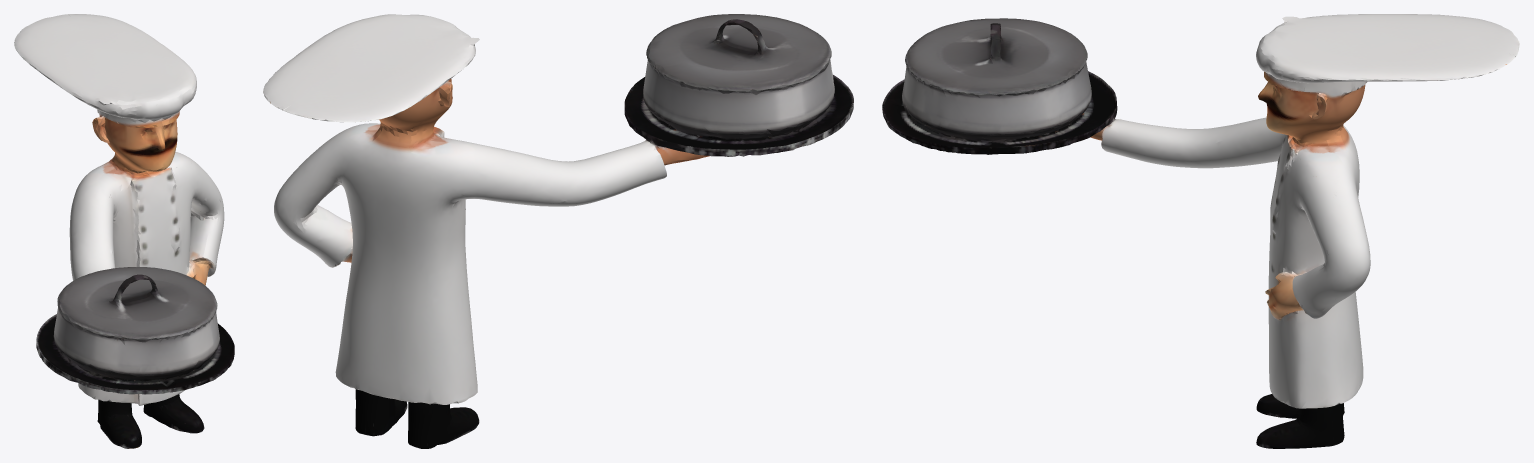
Rendered from chef.glb.
3 views of the same model, side by side, from view 1: azimuth 30°, elevation 25°; view 2: azimuth 150°, elevation 25°; view 3: azimuth 270°, elevation 25° (orthographic). The views are drawn at different scales.
Parts seen in each view (by area): view 1: chef; view 2: chef; view 3: chef.
Boxes of the visible parts, left/top/right/bottom form: chef: left=14, top=14, right=234, bottom=448; chef: left=263, top=14, right=853, bottom=448; chef: left=882, top=14, right=1519, bottom=448.
Size of the model in its own units: 1.13 by 1.13 by 1.71.
Materials: 1 (1 with a texture image).
